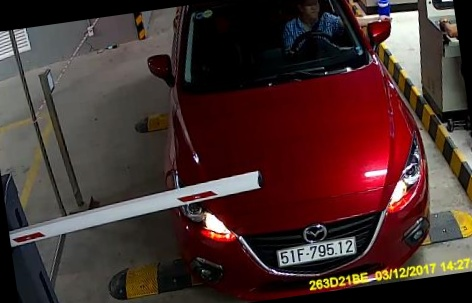plate: (271, 236, 365, 268)
